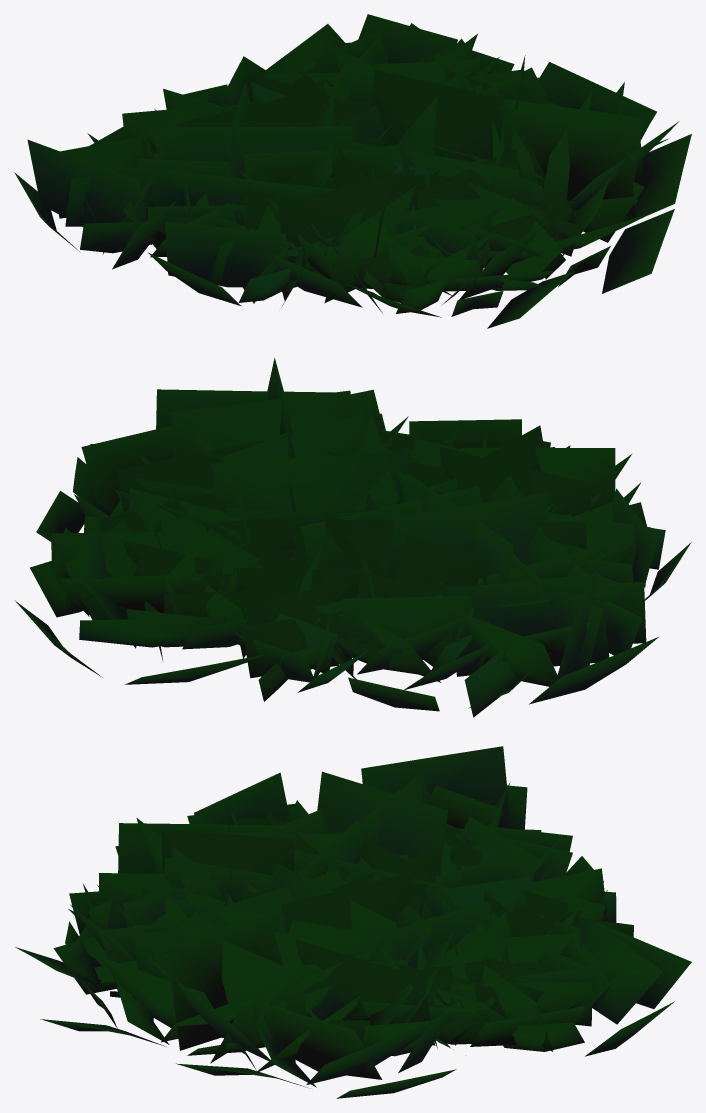
File: GrassSimpleClumpCATAM_A.fbx
3 views of the same model, one above another, from view 1: azimuth 30°, elevation 25°; view 2: azimuth 150°, elevation 25°; view 3: azimuth 270°, elevation 25° (orthographic). The views are drawn at different scales.
Visible parts, largest first — view 1: LeavesClump_A_LOD0; view 2: LeavesClump_A_LOD0; view 3: LeavesClump_A_LOD0.
Part boxes in pixels (x1,y1,x2,y2): LeavesClump_A_LOD0: (14,14,691,328); LeavesClump_A_LOD0: (14,358,691,717); LeavesClump_A_LOD0: (15,746,691,1098).
Size of what is drawn, in the model's own units: 5.26 by 1.1 by 5.1.
